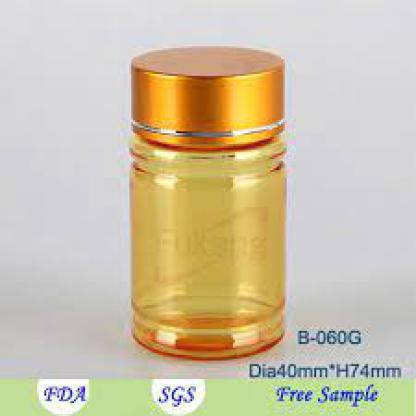jar: (131, 47, 284, 359)
